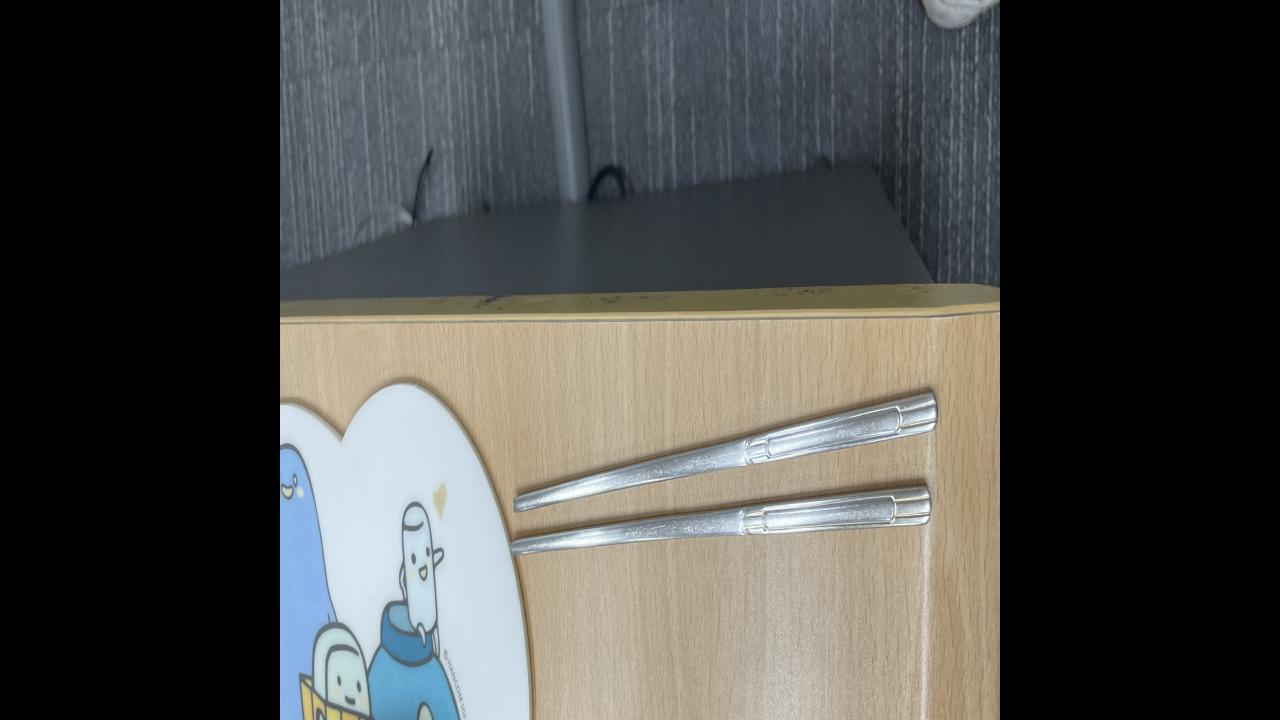chopstick: (508, 388, 934, 551)
